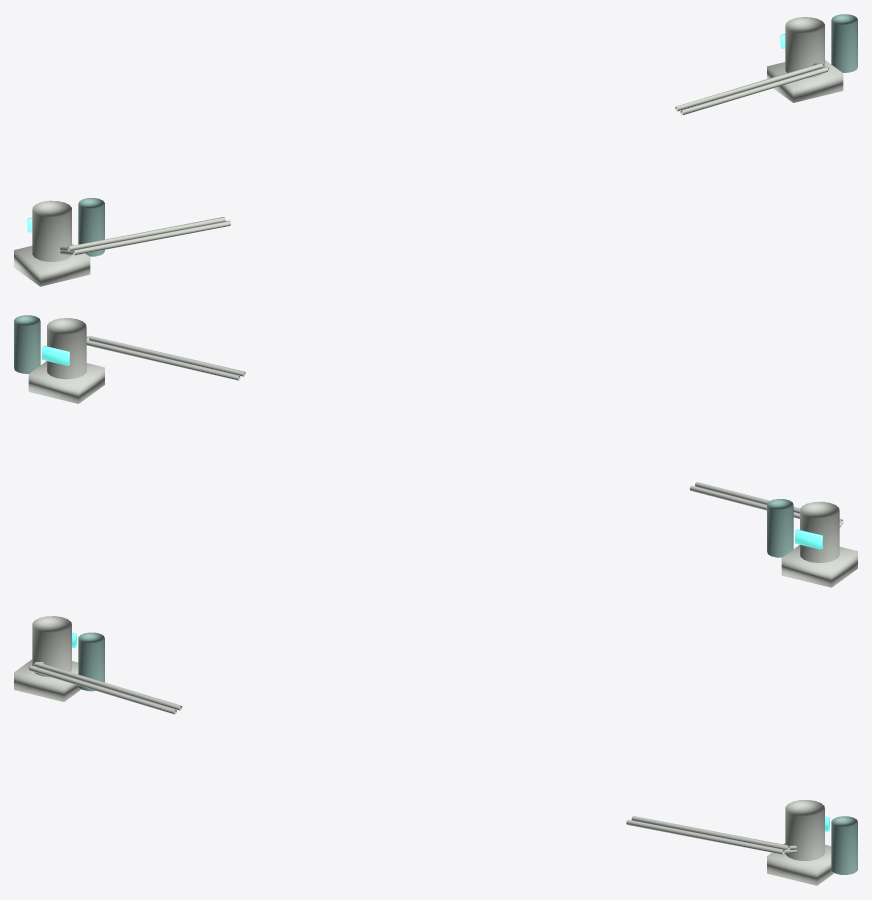
Rendered from g01-visual-service-pumps.glb.
3 renders of one model, top to bottom at view 1: azimuth 30°, elevation 25°; view 2: azimuth 150°, elevation 25°; view 3: azimuth 330°, elevation 25°, orthographic.
Parts seen in each view (by area): view 1: shell-material-2-0, shell-material-4-0; view 2: shell-material-2-0, shell-material-4-0, shell-material-7-0; view 3: shell-material-2-0, shell-material-4-0.
Part boxes in pixels (left/top/right/bottom): shell-material-2-0: left=14, top=17, right=843, bottom=286; shell-material-4-0: left=78, top=14, right=857, bottom=256; shell-material-2-0: left=28, top=318, right=857, bottom=587; shell-material-4-0: left=14, top=315, right=793, bottom=557; shell-material-7-0: left=42, top=345, right=822, bottom=549; shell-material-2-0: left=14, top=616, right=834, bottom=885; shell-material-4-0: left=78, top=632, right=857, bottom=874.
Size of the model in its own units: 27.31 by 1.95 by 2.37.
